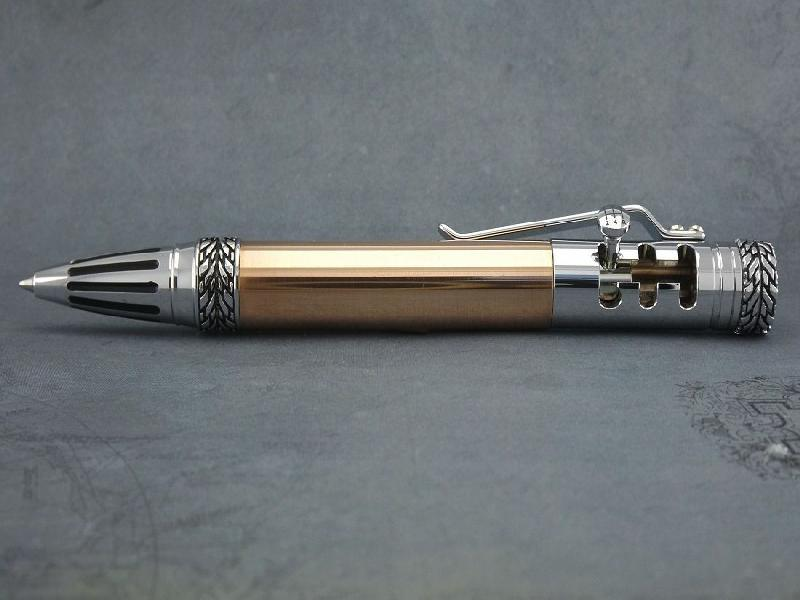pen: (13, 196, 786, 342)
